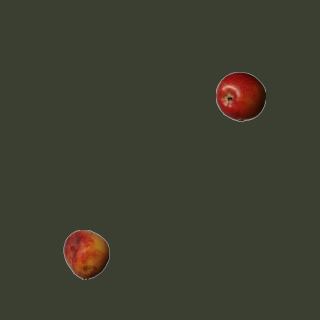Apple Braeburn: (215, 71, 265, 121)
Peach: (61, 229, 111, 279)
